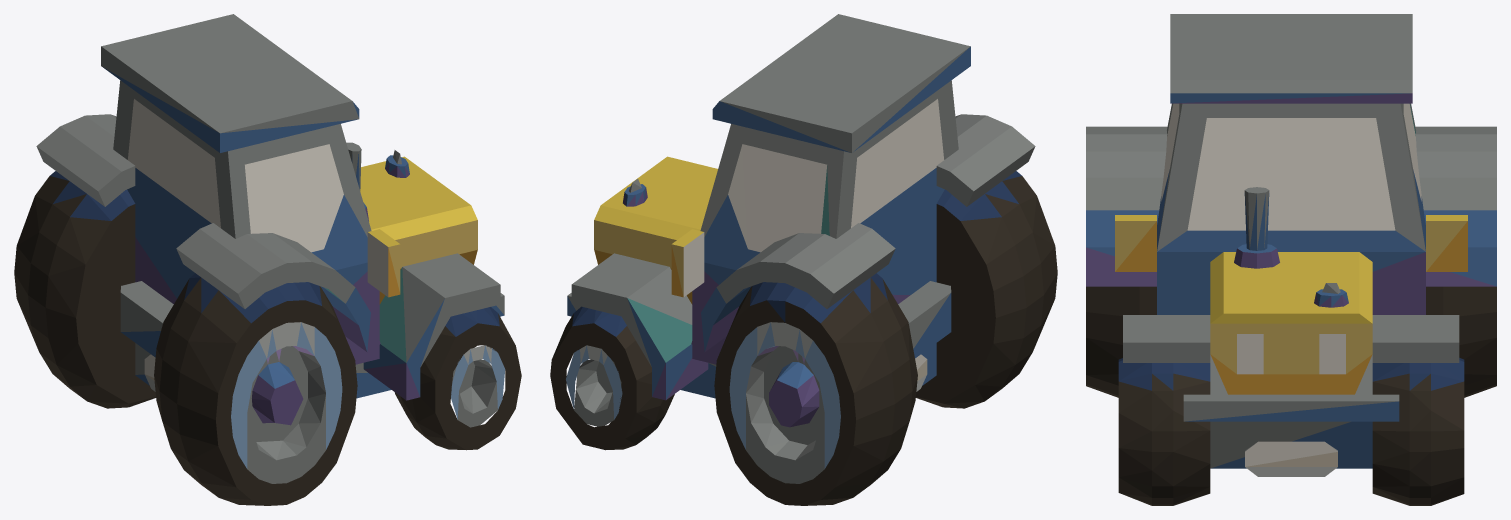
File: tractor.glb
The picture shows the model from 3 angles, left to right: view 1: azimuth 30°, elevation 25°; view 2: azimuth 150°, elevation 25°; view 3: azimuth 270°, elevation 25°; orthographic projection.
Bounding box in the file's own units: 1 × 1 × 1.
